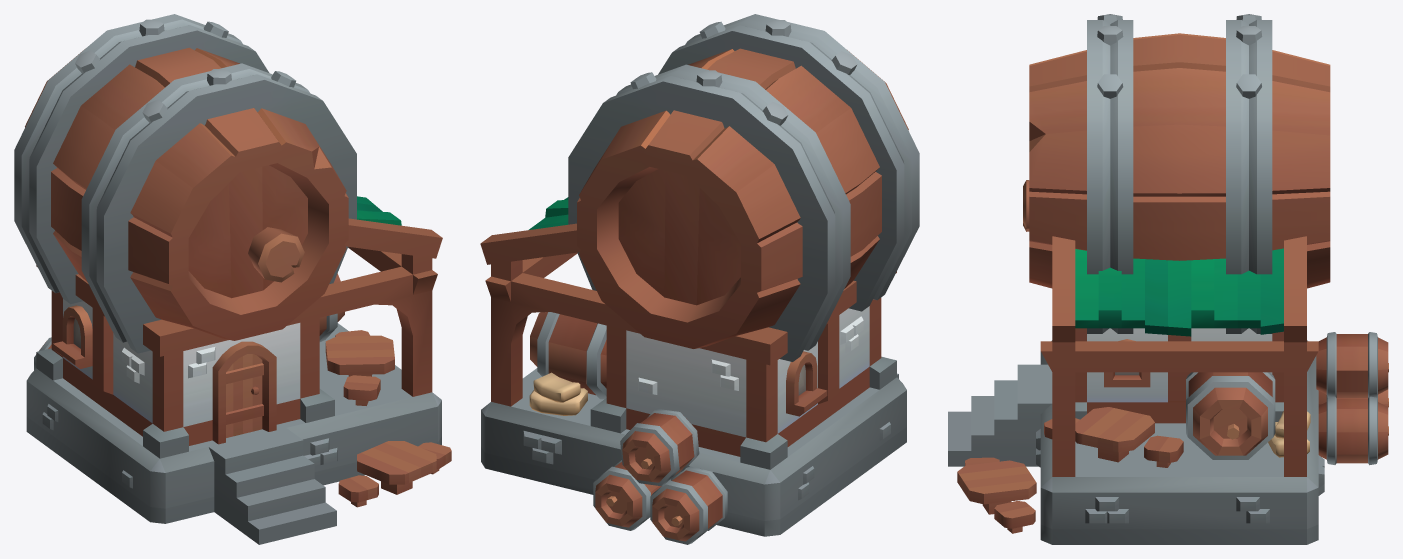
File: tavern.glb
The picture shows the model from 3 angles, left to right: view 1: azimuth 30°, elevation 25°; view 2: azimuth 150°, elevation 25°; view 3: azimuth 270°, elevation 25°; orthographic projection. The views are drawn at different scales.
Visible parts, largest first — view 1: building_tavern_green; view 2: building_tavern_green; view 3: building_tavern_green.
Boxes of the visible parts, box(x1,y1,x2,y2) form: building_tavern_green: box(14, 14, 451, 544); building_tavern_green: box(480, 14, 919, 544); building_tavern_green: box(948, 14, 1388, 544).
Size of the model in its own units: 1.17 by 1.4 by 1.33.
1 material, 1 textured.
